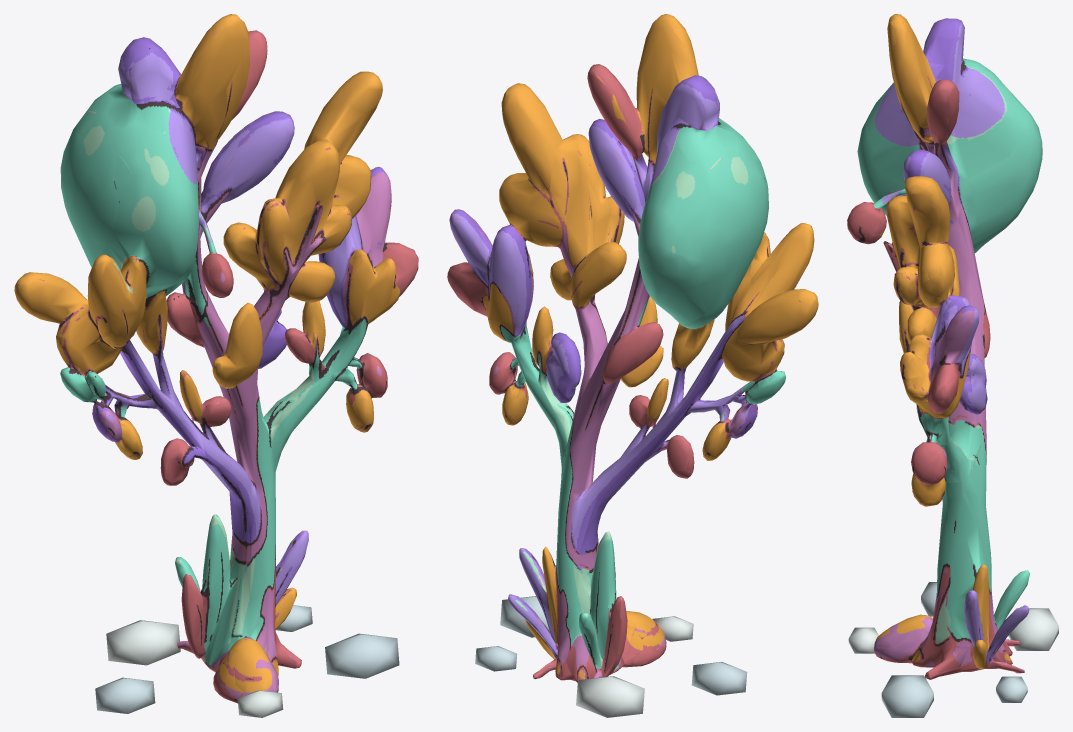
Rendered from lagoon_tree_blossom_cloud.glb.
The picture shows the model from 3 angles, left to right: view 1: azimuth 30°, elevation 25°; view 2: azimuth 150°, elevation 25°; view 3: azimuth 270°, elevation 25°; orthographic projection. The views are drawn at different scales.
Parts seen in each view (by area): view 1: lagoon_tree_blossom_cloud.001; view 2: lagoon_tree_blossom_cloud.001; view 3: lagoon_tree_blossom_cloud.001.
Boxes of the visible parts, box(x1,y1,x2,y2) form: lagoon_tree_blossom_cloud.001: box(14, 14, 418, 717); lagoon_tree_blossom_cloud.001: box(447, 14, 818, 717); lagoon_tree_blossom_cloud.001: box(847, 14, 1058, 717).
Size of the model in its own units: 4.94 by 8.28 by 2.49.
Materials: 3 (1 with a texture image).
